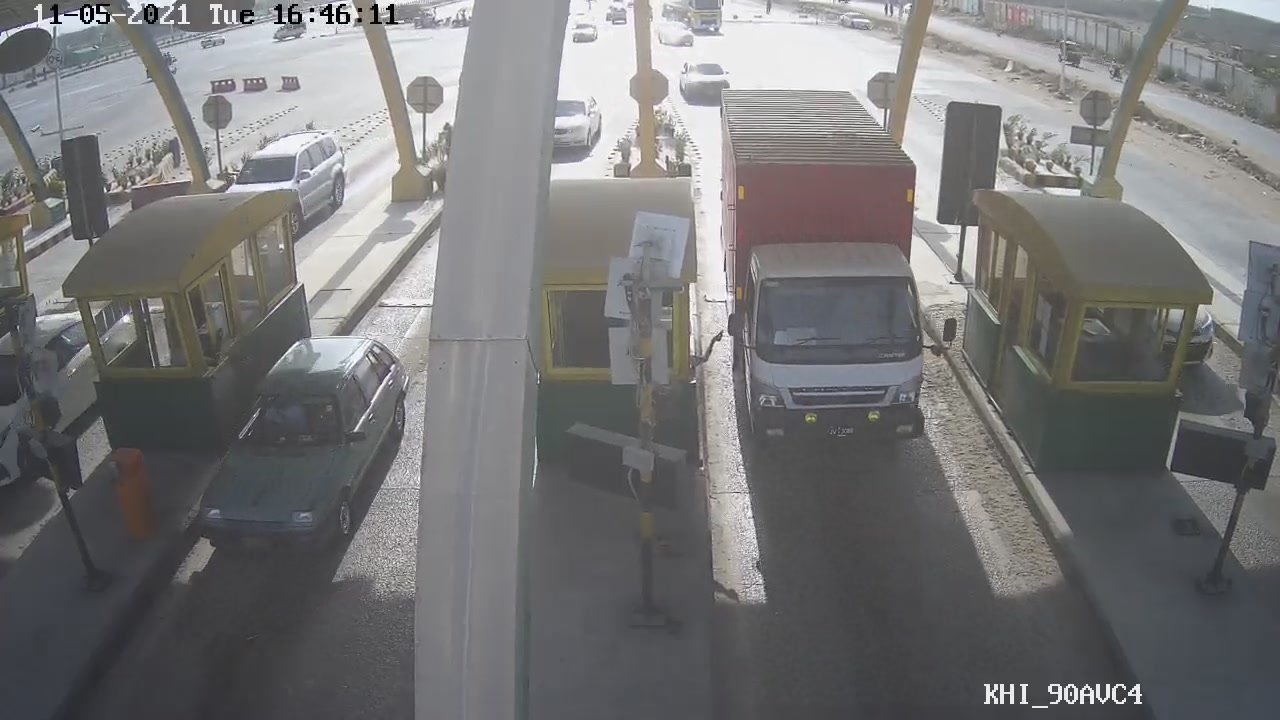F5: (713, 77, 940, 465)
